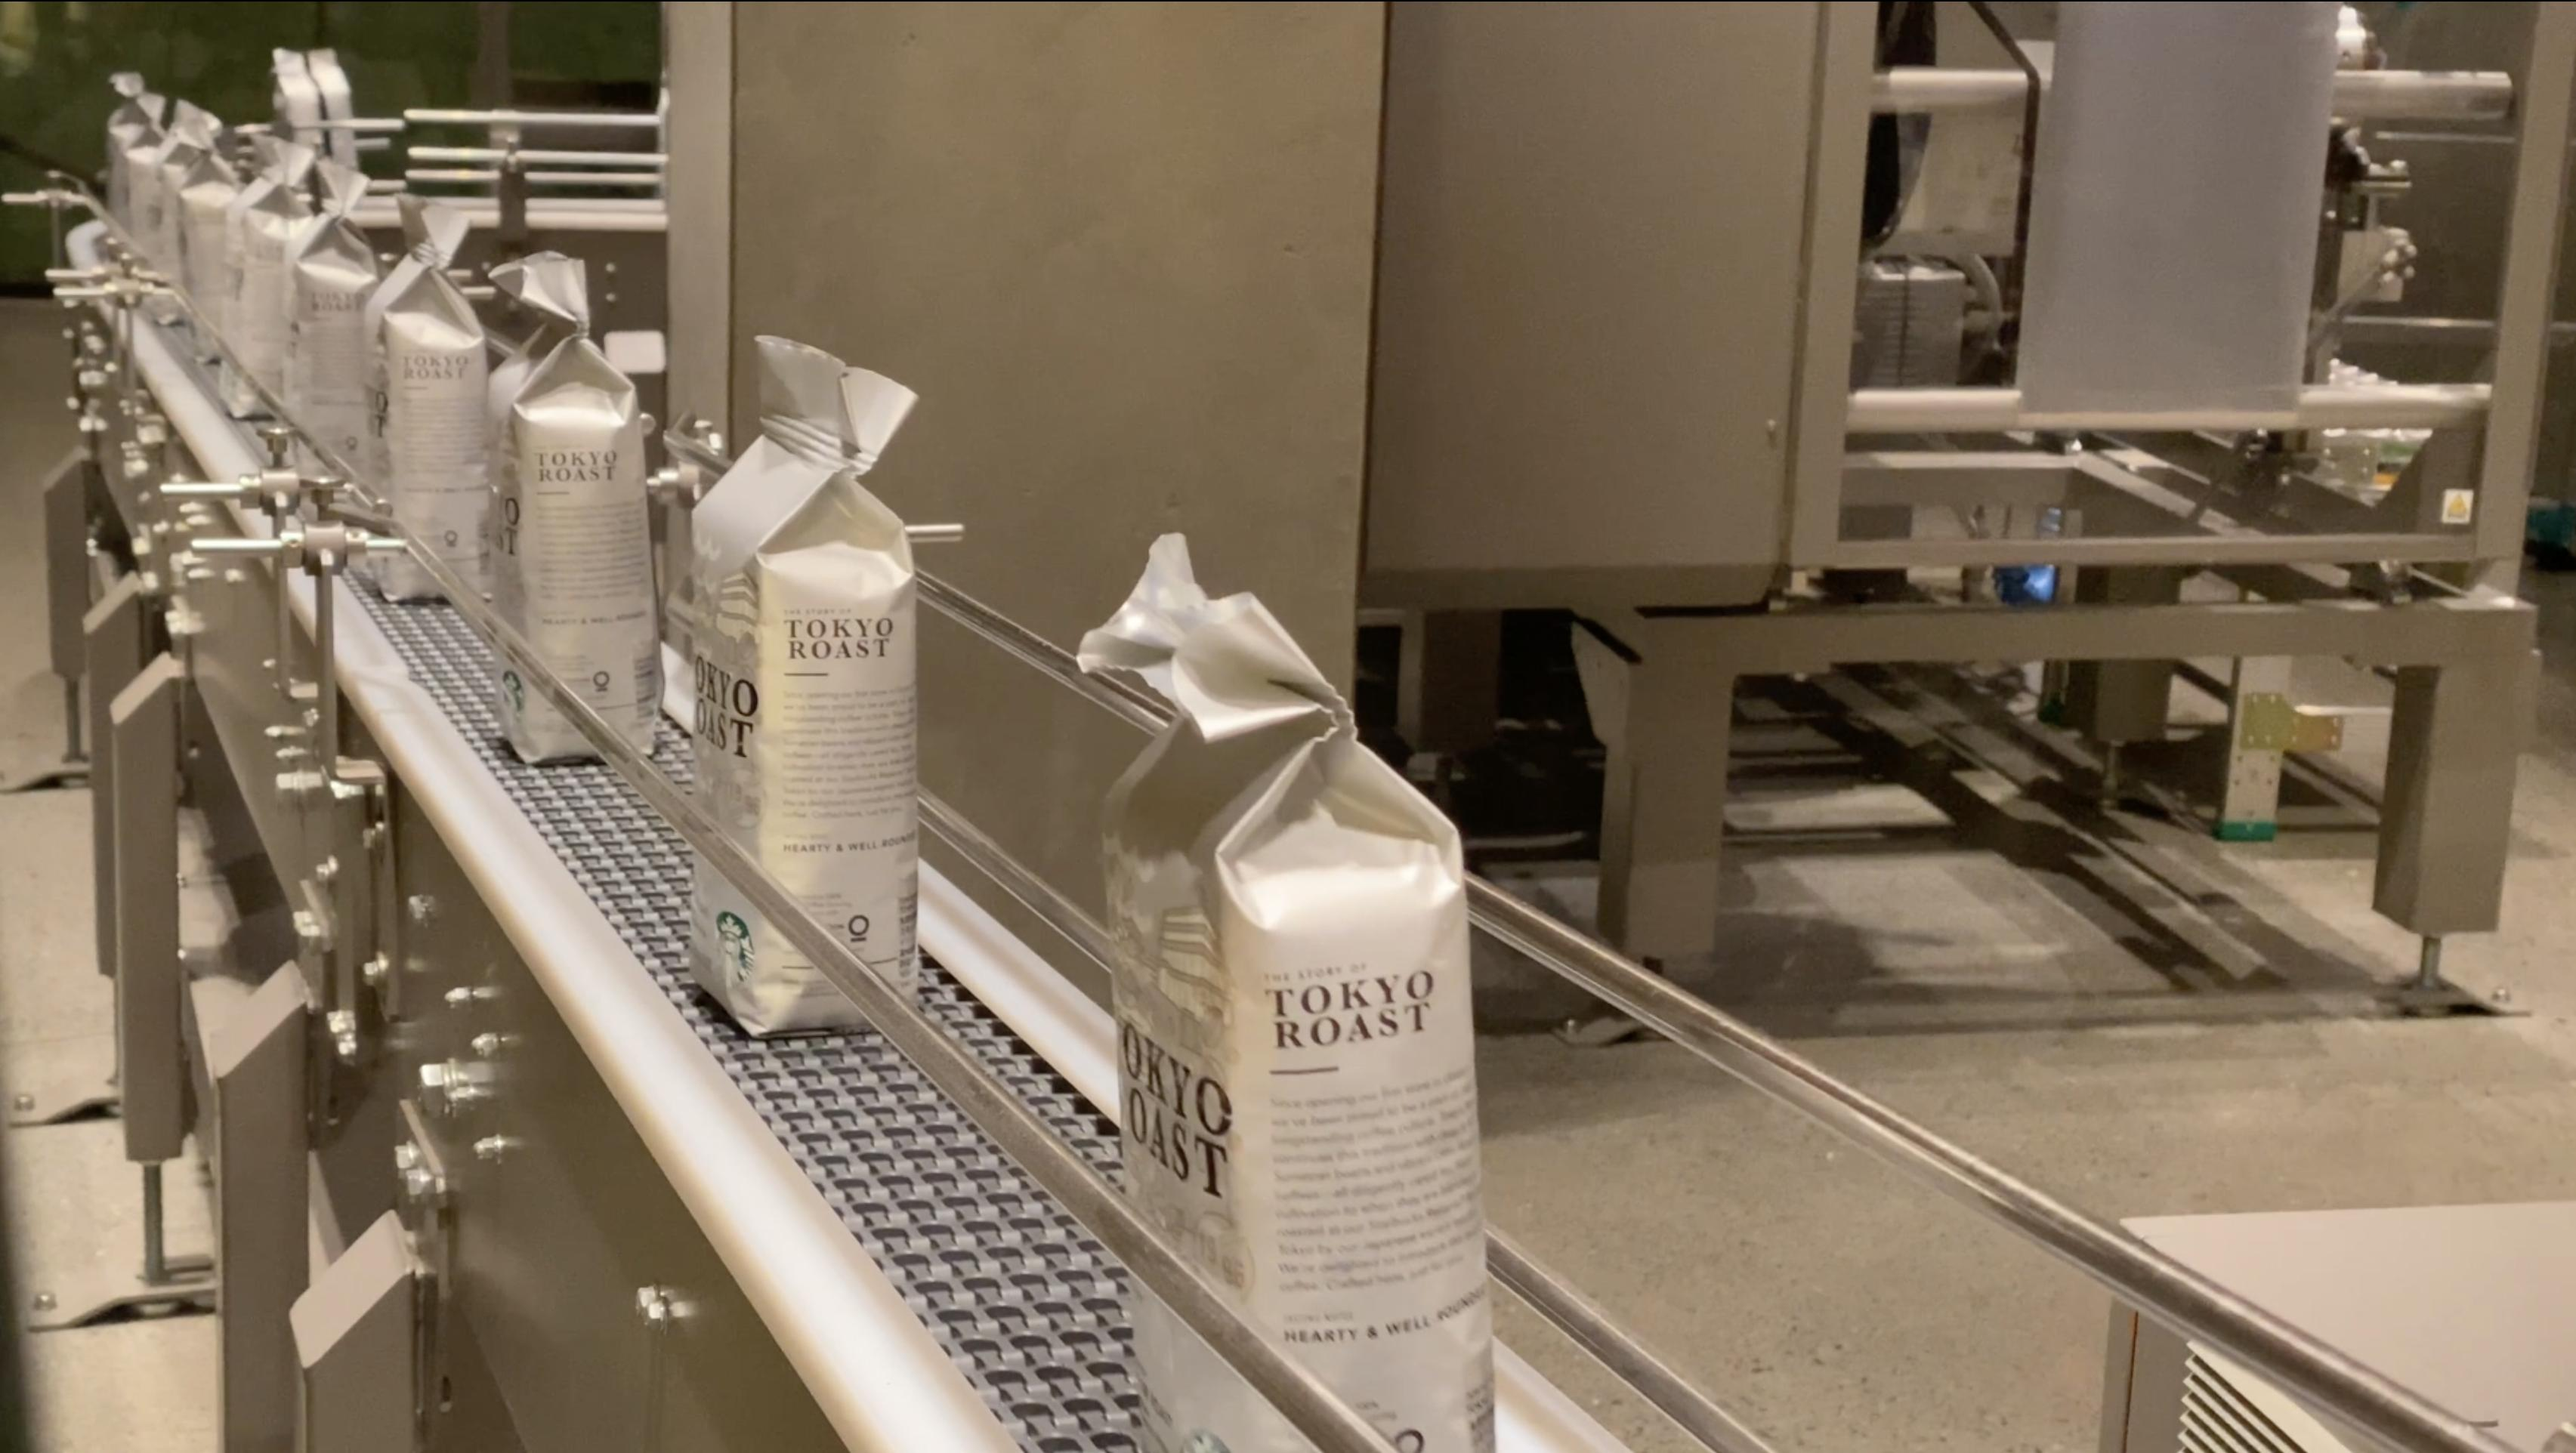bag: (1116, 573, 1472, 1453), (724, 394, 925, 1034), (497, 300, 660, 762), (373, 207, 488, 585), (306, 191, 380, 498), (235, 148, 285, 430), (177, 131, 235, 354)
